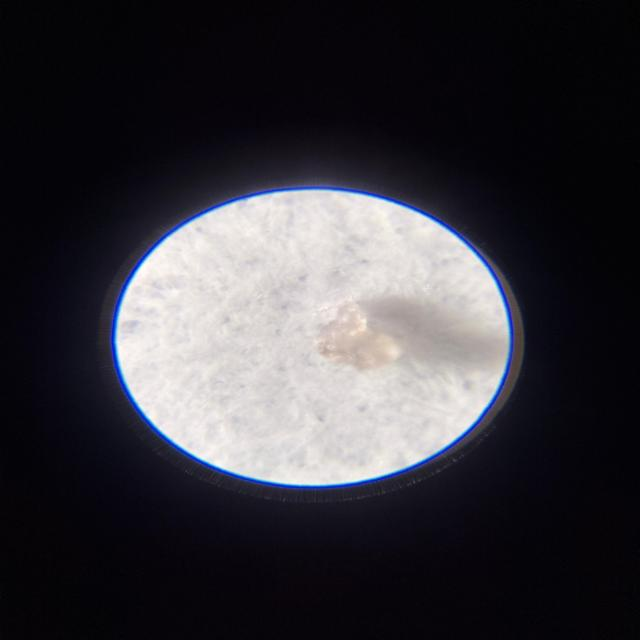microplastic_type_1: (316, 298, 403, 370)
